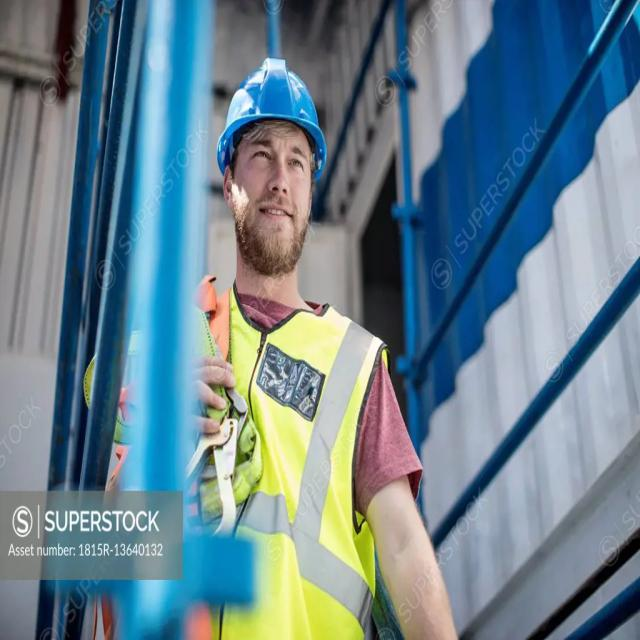helmet: (224, 53, 322, 139)
no-goggles: (222, 139, 320, 186)
vest: (190, 311, 391, 640)
